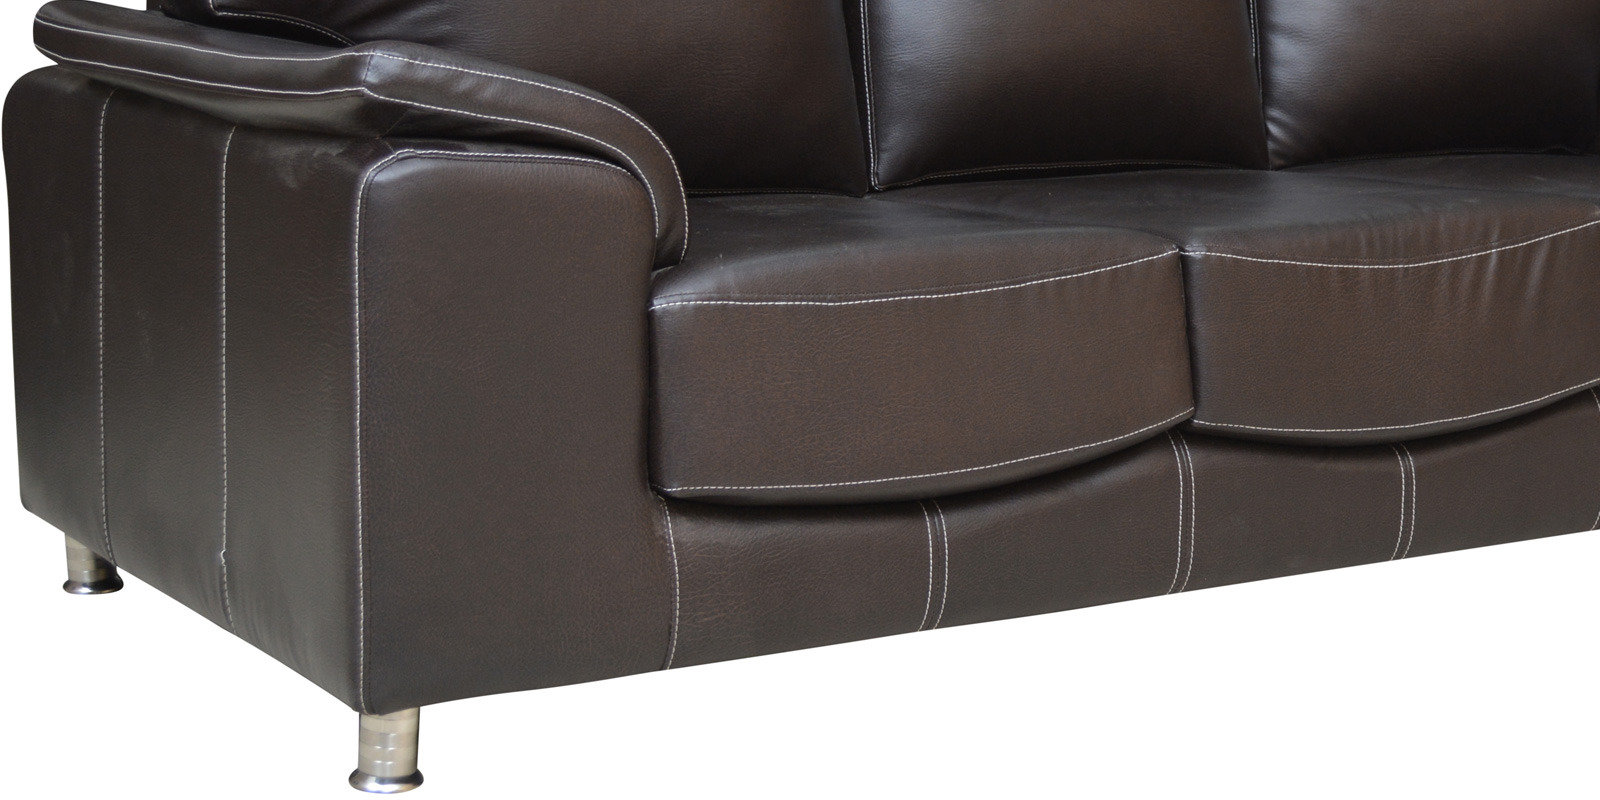Magnum Three Seater Sofa in Black Leatherette by Crystal Furnitech: (2, 1, 1600, 796)
